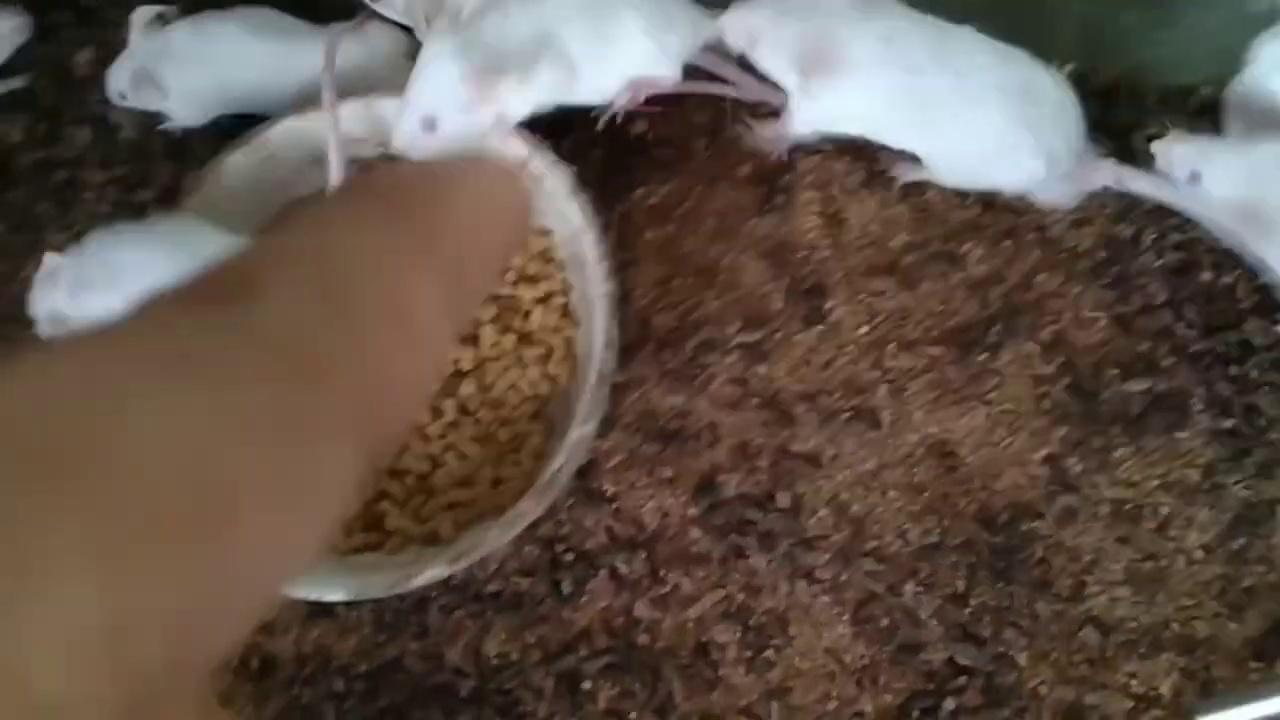rat: (717, 0, 1089, 200), (395, 3, 719, 153), (105, 3, 403, 130)
